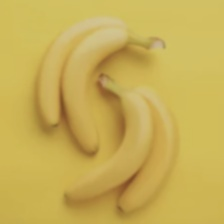banana: (27, 13, 216, 212)
